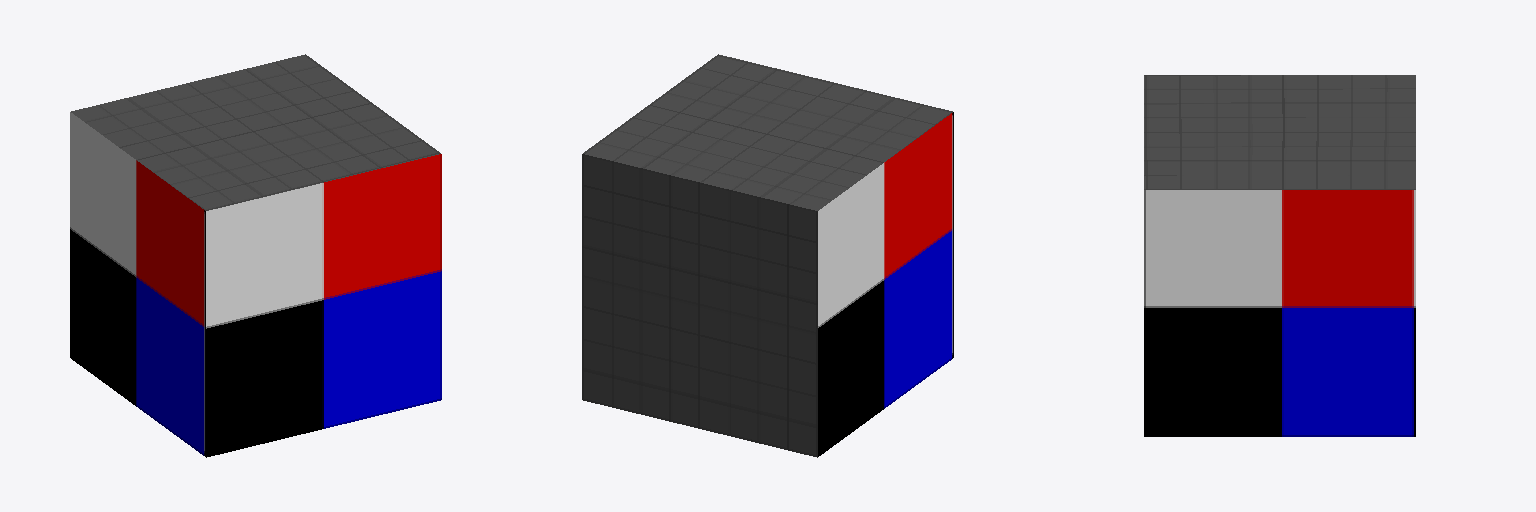
3 views of the same model, side by side, from view 1: azimuth 30°, elevation 25°; view 2: azimuth 150°, elevation 25°; view 3: azimuth 270°, elevation 25° (orthographic).
Visible parts, largest first — view 1: Cube; view 2: Cube; view 3: Cube.
Boxes of the visible parts, x1,y1,x2,y2 form: Cube: [70, 54, 441, 457]; Cube: [582, 54, 953, 457]; Cube: [1144, 75, 1415, 436].
Size of the model in its own units: 2 by 2 by 2.
1 materials, 1 textured.